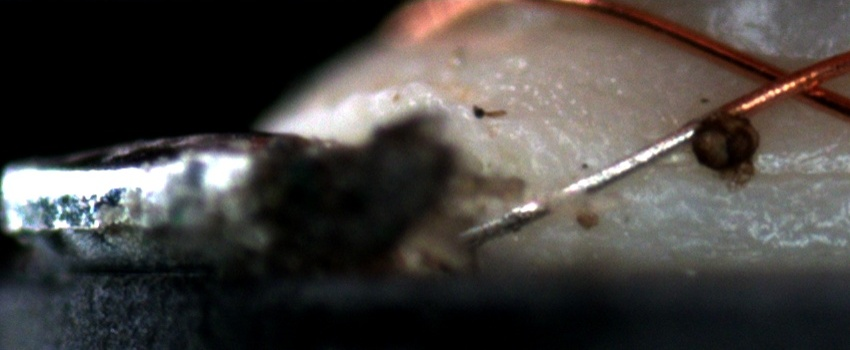CL: (740, 53, 840, 110)
DL: (638, 142, 850, 206)
TS: (461, 125, 695, 244)
